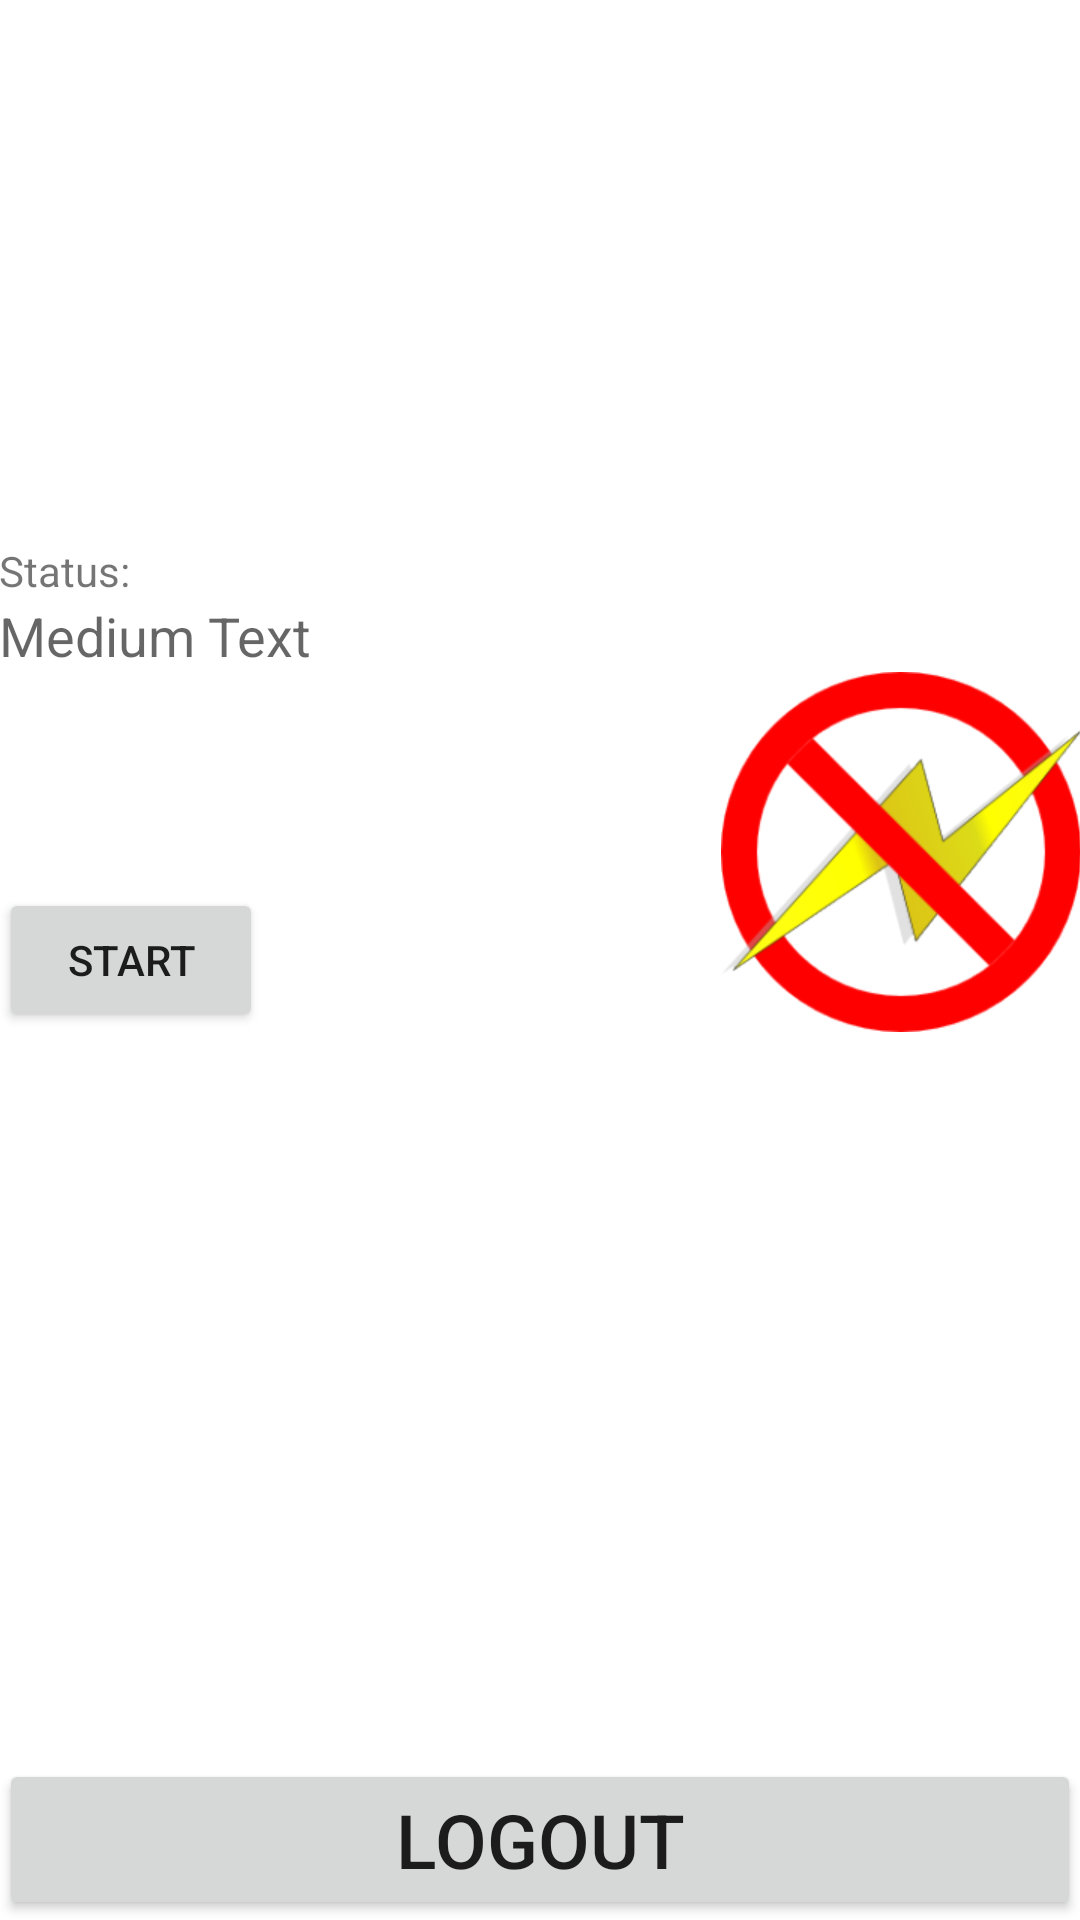

Where icons sit on this 1080 × 1920 app screen, as {"left": x1, "top": y1, "right": x2, "bottom": y2}:
power cut: {"left": 721, "top": 672, "right": 1080, "bottom": 1032}
